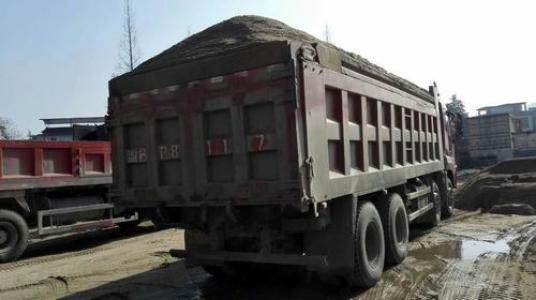chaozhai: (101, 7, 463, 292)
